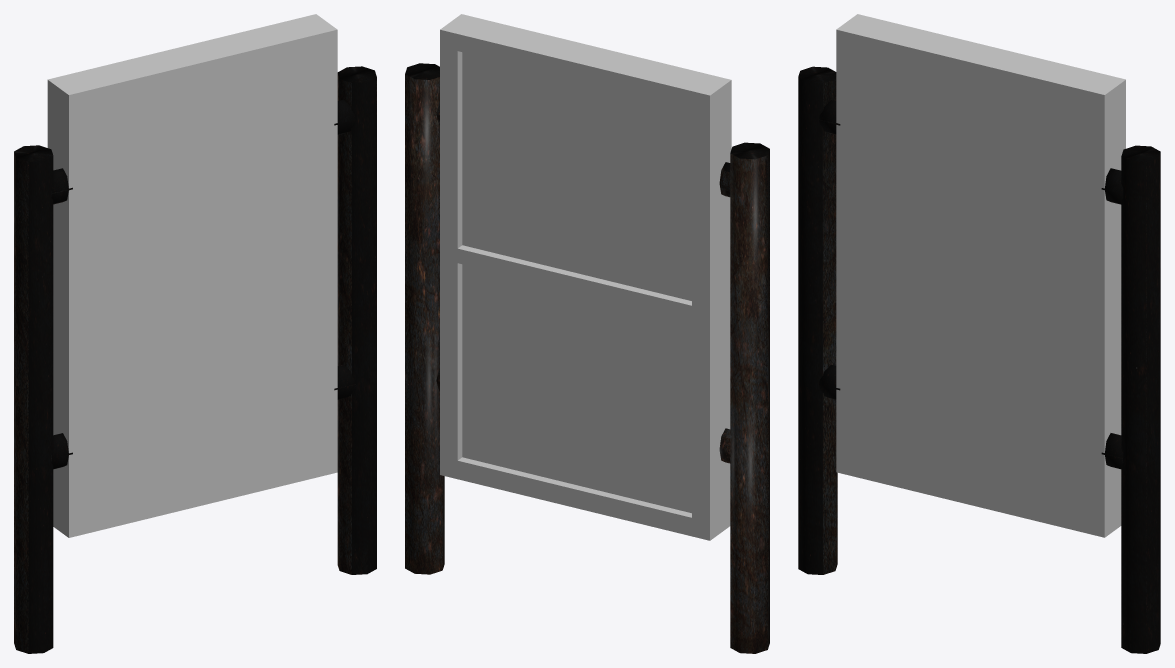
The model's file is obstacle_left.dae.
The picture shows the model from 3 angles, left to right: view 1: azimuth 30°, elevation 25°; view 2: azimuth 150°, elevation 25°; view 3: azimuth 330°, elevation 25°; orthographic projection.
Visible parts, largest first — view 1: ObstacleLeft, Poles, Hinges; view 2: ObstacleLeft, Poles, Hinges; view 3: ObstacleLeft, Poles, Hinges.
Boxes of the visible parts, x1,y1,x2,y2 form: ObstacleLeft: (47, 14, 337, 537); Poles: (14, 66, 376, 653); Hinges: (51, 99, 355, 469); ObstacleLeft: (440, 14, 731, 540); Poles: (405, 63, 769, 653); Hinges: (436, 101, 730, 463); ObstacleLeft: (836, 14, 1125, 537); Poles: (798, 66, 1160, 653); Hinges: (819, 100, 1123, 469).
Size of the model in its own units: 2.48 by 0.2773 by 3.63.
